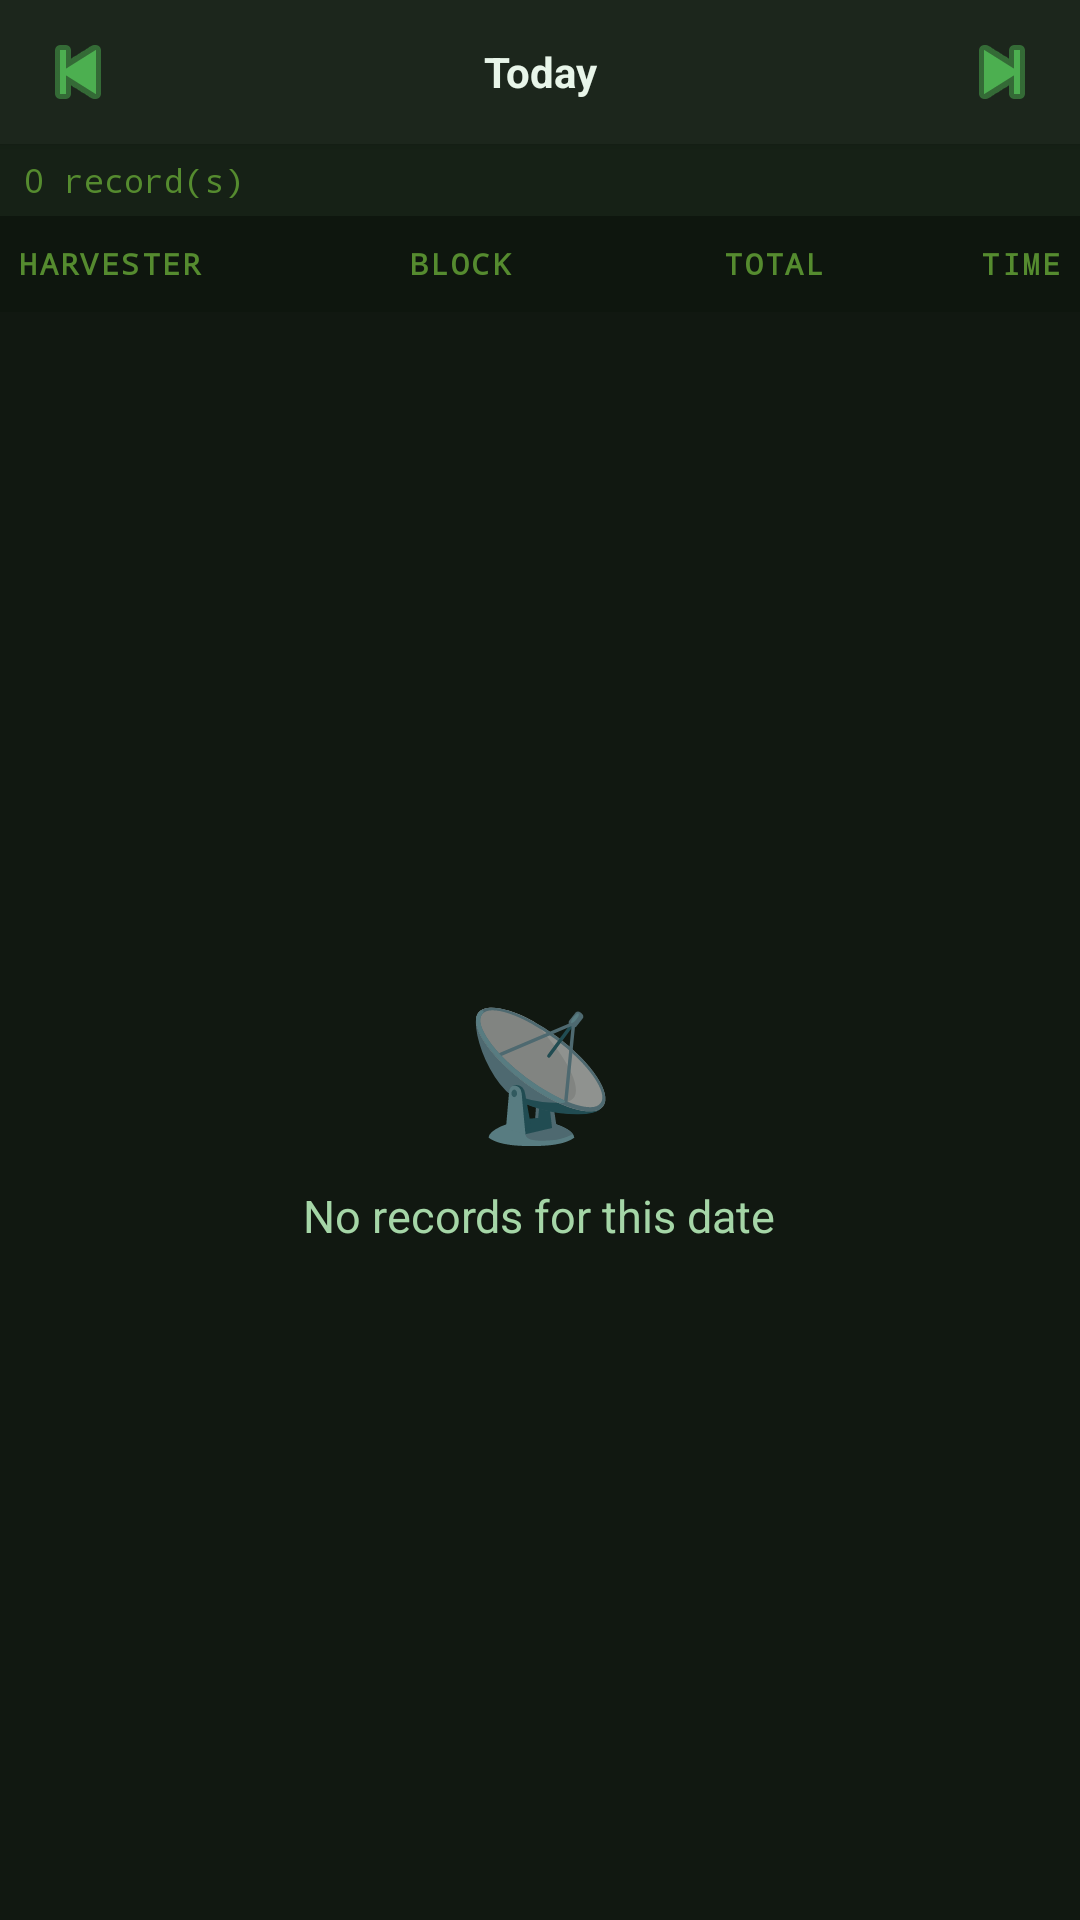

Screen size 1080x1920. Icon name, then its box in pixels as (x1,y1,x2,y2):
Next date: (979,45,1025,99)
Previous date: (55,45,101,99)
